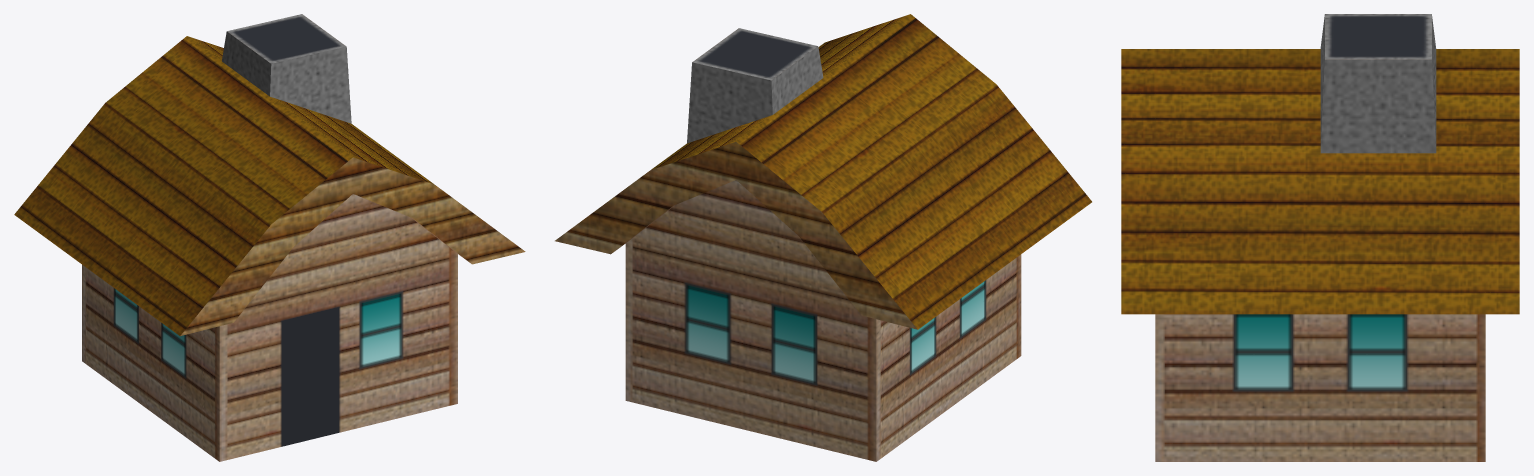
The model's file is house_1.fbx.
3 renders of one model, left to right at view 1: azimuth 30°, elevation 25°; view 2: azimuth 150°, elevation 25°; view 3: azimuth 270°, elevation 25°, orthographic. The views are drawn at different scales.
Parts seen in each view (by area): view 1: pCube266; view 2: pCube266; view 3: pCube266.
Part boxes in pixels (x1,y1,x2,y2): pCube266: [14, 14, 525, 461]; pCube266: [555, 14, 1091, 461]; pCube266: [1121, 14, 1519, 461].
Size of the model in its own units: 29.7 by 25.98 by 24.69.
1 material, 1 textured.
